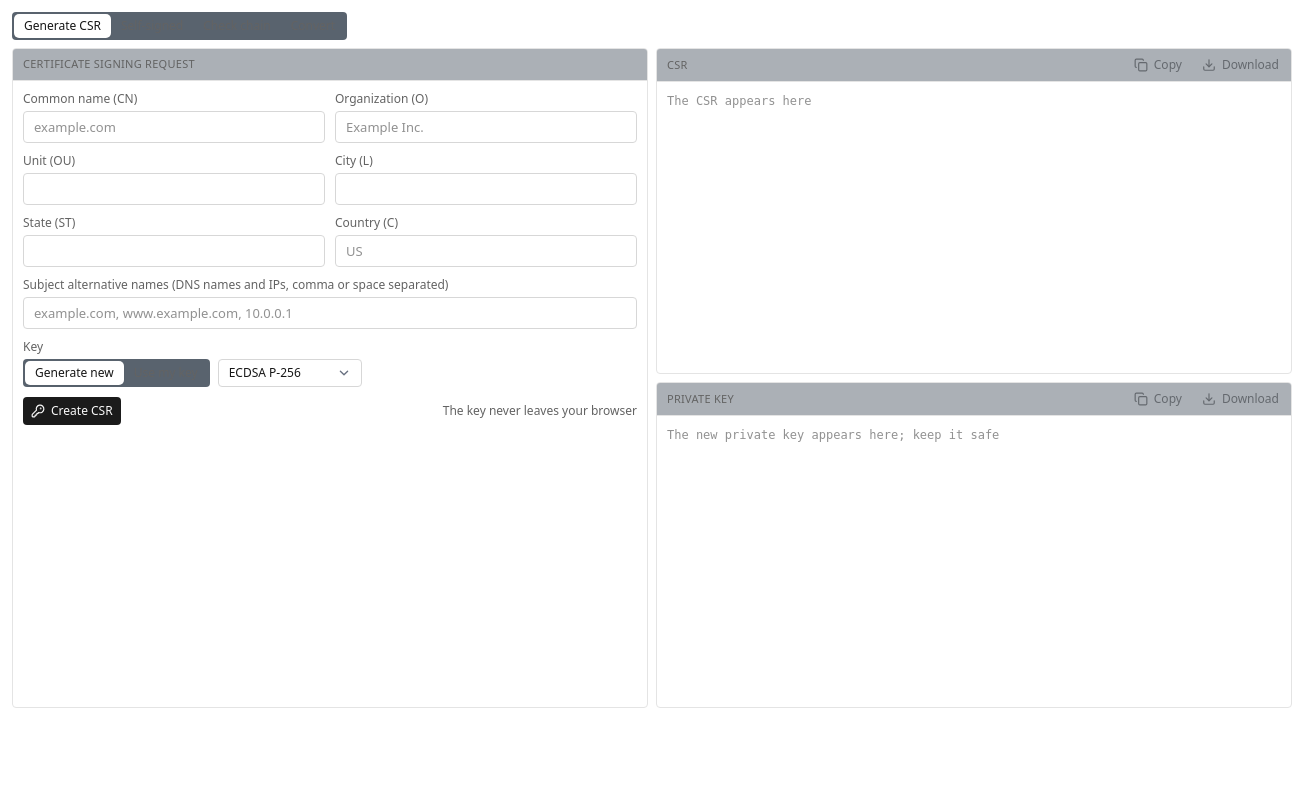
CertToolkit › reports a bad SAN
Step 1. Type "not valid!" into the field labelled "Subject alternative names" → (330, 313), box [23,297,637,329]
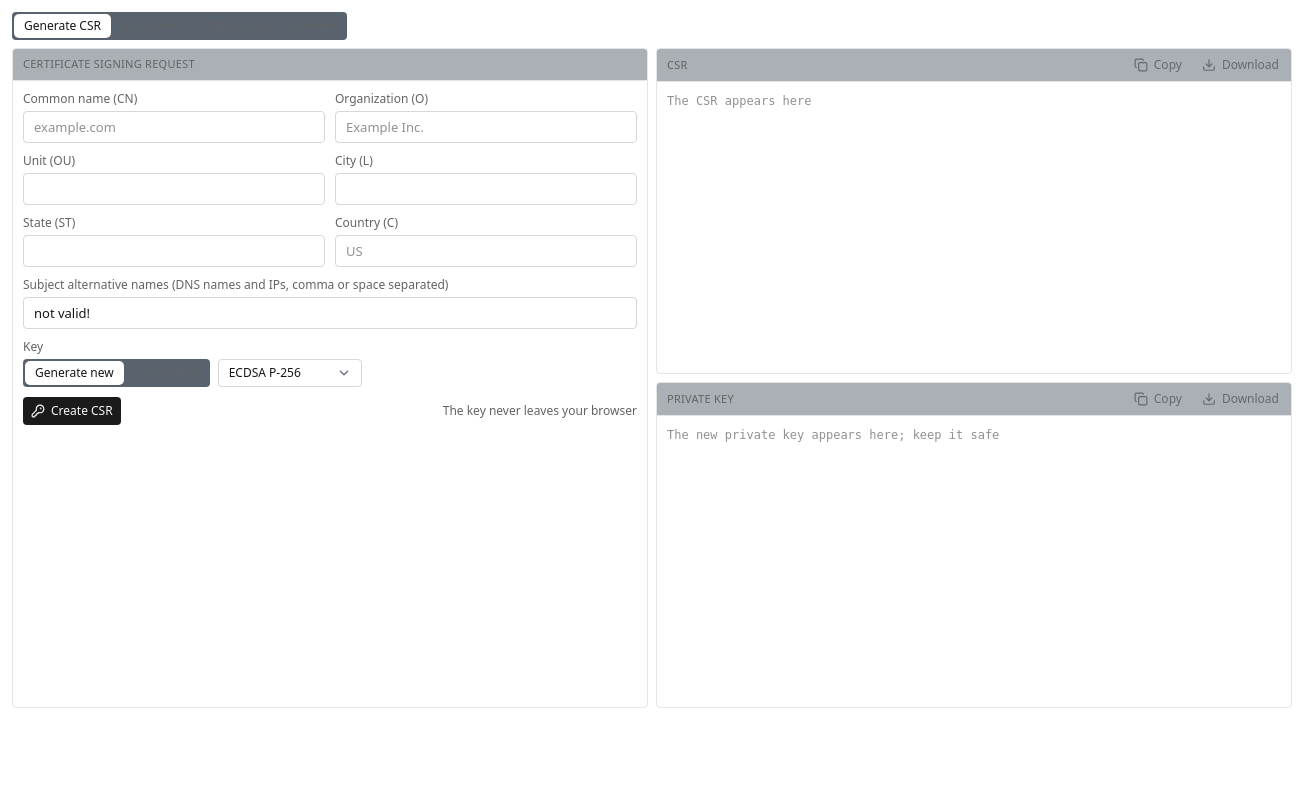
Step 2. Click the button "Create CSR" → (72, 411), box [23,397,121,425]
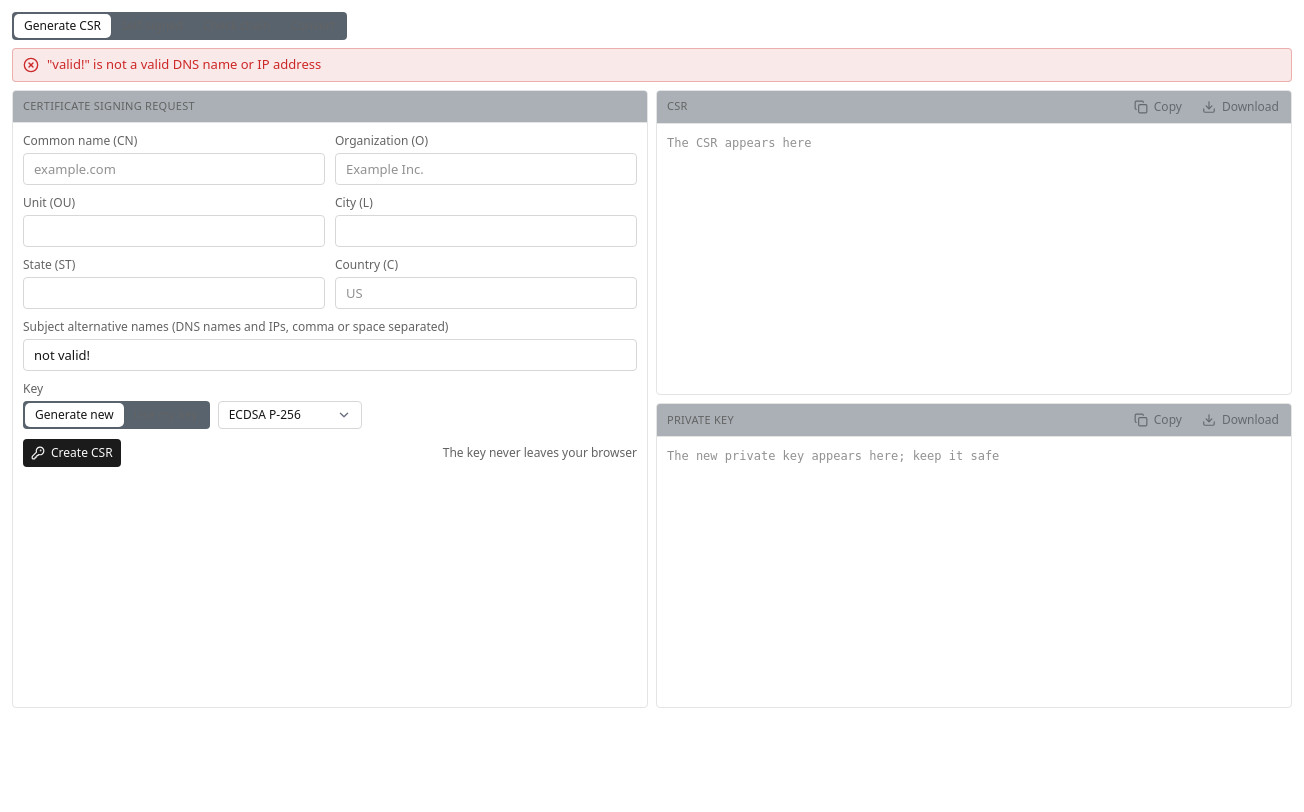
Check: the message shows "not a valid DNS name", box [47,55,321,73]
